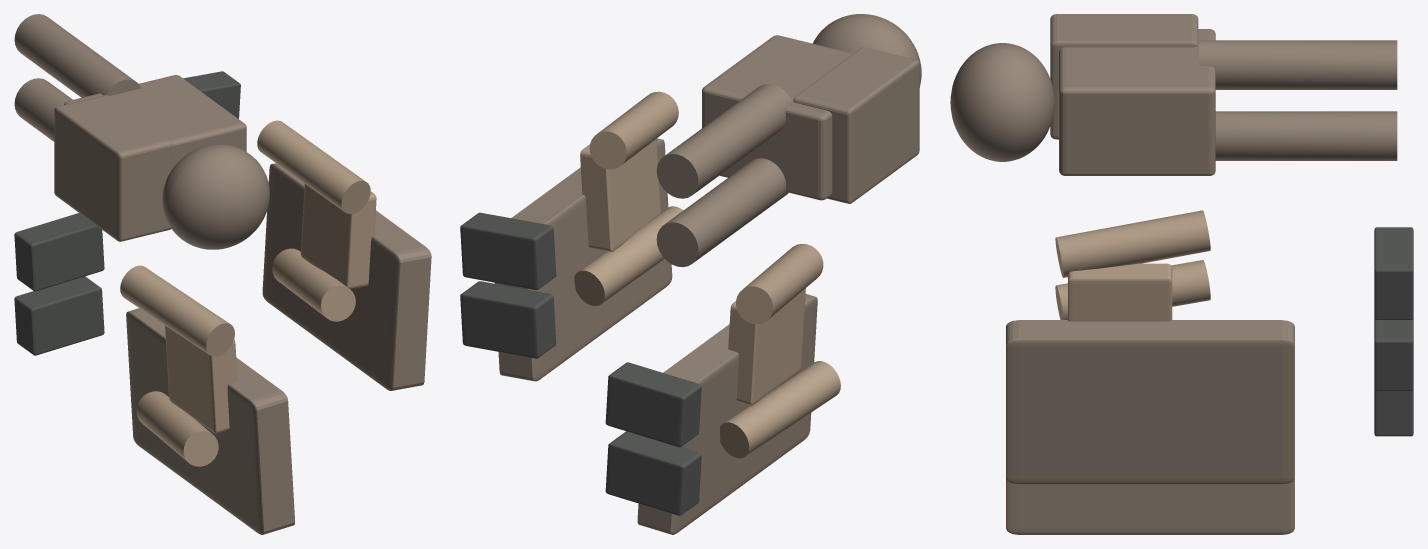
Rendered from d-u02-dominion-assault-infantry-lod2.glb.
The picture shows the model from 3 angles, left to right: view 1: azimuth 30°, elevation 25°; view 2: azimuth 150°, elevation 25°; view 3: azimuth 270°, elevation 25°; orthographic projection. The views are drawn at different scales.
Visible parts, largest first — view 1: soldier_0_shield, soldier_2_shield, soldier_1_backpack, soldier_1_helmet, soldier_1_torso, soldier_0_chest, soldier_2_boot_-1, soldier_2_boot_1, soldier_1_leg_1, soldier_2_chest, soldier_2_arm_1, soldier_0_arm_1 (+4 smaller); view 2: soldier_1_backpack, soldier_1_torso, soldier_0_shield, soldier_2_shield, soldier_1_leg_1, soldier_1_leg_-1, soldier_0_chest, soldier_2_boot_1, soldier_2_boot_-1, soldier_0_boot_-1, soldier_0_boot_1, soldier_2_chest (+5 smaller); view 3: soldier_0_shield, soldier_1_torso, soldier_2_shield, soldier_1_helmet, soldier_1_leg_1, soldier_1_leg_-1, soldier_0_arm_1, soldier_0_chest, soldier_1_backpack, soldier_0_boot_1, soldier_0_boot_-1, soldier_2_arm_1 (+1 smaller).
Part boxes in pixels (<box>): soldier_0_shield: <box>262,163,431,390</box>; soldier_2_shield: <box>126,308,295,534</box>; soldier_1_backpack: <box>54,95,172,241</box>; soldier_1_helmet: <box>162,144,269,249</box>; soldier_1_torso: <box>64,75,246,168</box>; soldier_0_chest: <box>300,184,376,289</box>; soldier_2_boot_-1: <box>14,276,104,355</box>; soldier_2_boot_1: <box>14,213,104,291</box>; soldier_1_leg_1: <box>14,14,141,97</box>; soldier_2_chest: <box>165,325,237,433</box>; soldier_2_arm_1: <box>120,265,234,356</box>; soldier_0_arm_1: <box>257,120,370,214</box>; soldier_1_backpack: <box>793,47,919,203</box>; soldier_1_torso: <box>702,35,852,200</box>; soldier_0_shield: <box>494,138,672,381</box>; soldier_2_shield: <box>637,294,817,534</box>; soldier_1_leg_1: <box>656,84,791,198</box>; soldier_1_leg_-1: <box>656,158,788,267</box>; soldier_0_chest: <box>580,139,660,251</box>; soldier_2_boot_1: <box>605,362,701,447</box>; soldier_2_boot_-1: <box>605,431,701,515</box>; soldier_0_boot_-1: <box>460,281,556,358</box>; soldier_0_boot_1: <box>460,212,556,289</box>; soldier_2_chest: <box>728,288,805,405</box>; soldier_0_shield: <box>1006,320,1294,484</box>; soldier_1_torso: <box>1059,29,1215,175</box>; soldier_2_shield: <box>1006,478,1294,534</box>; soldier_1_helmet: <box>950,43,1054,161</box>; soldier_1_leg_1: <box>1199,40,1397,89</box>; soldier_1_leg_-1: <box>1215,111,1397,160</box>; soldier_0_arm_1: <box>1055,210,1210,277</box>; soldier_0_chest: <box>1068,263,1172,321</box>; soldier_1_backpack: <box>1050,14,1198,139</box>; soldier_0_boot_1: <box>1374,227,1413,319</box>; soldier_0_boot_-1: <box>1374,317,1413,390</box>; soldier_2_arm_1: <box>1055,260,1210,319</box>.
Size of what is drawn, in the model's own units: 1.72 by 2.28 by 2.13.
